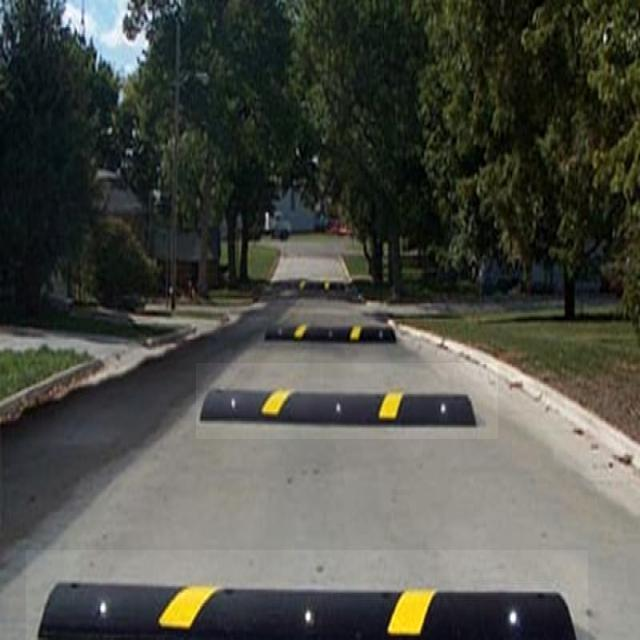Marked Bump: (51, 553, 586, 635), (213, 378, 475, 435), (268, 318, 400, 354), (298, 273, 344, 297)
